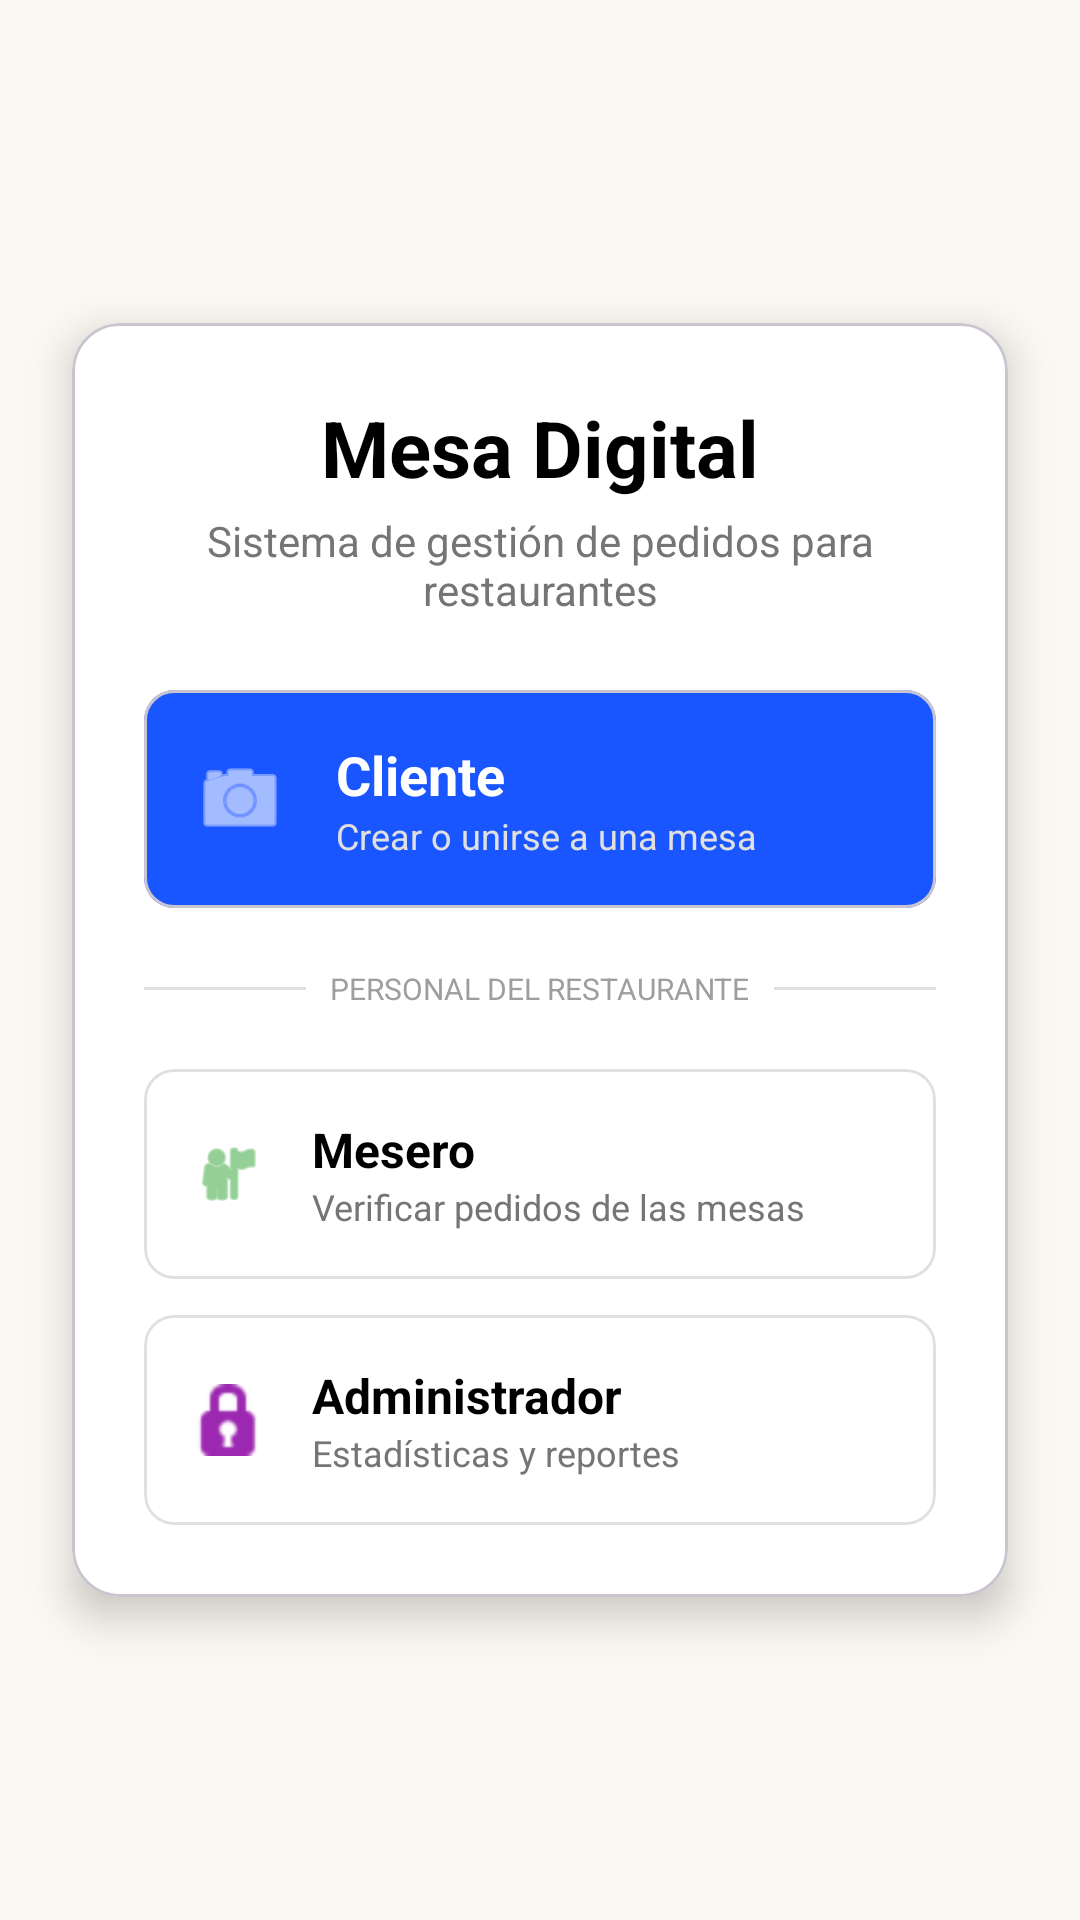

Named icons in this screenshot (1080px x 1920px) and their bounding boxes, (x1, y1, x2, y2):
camera: (203, 768, 277, 827)
secure: (199, 1384, 256, 1456)
